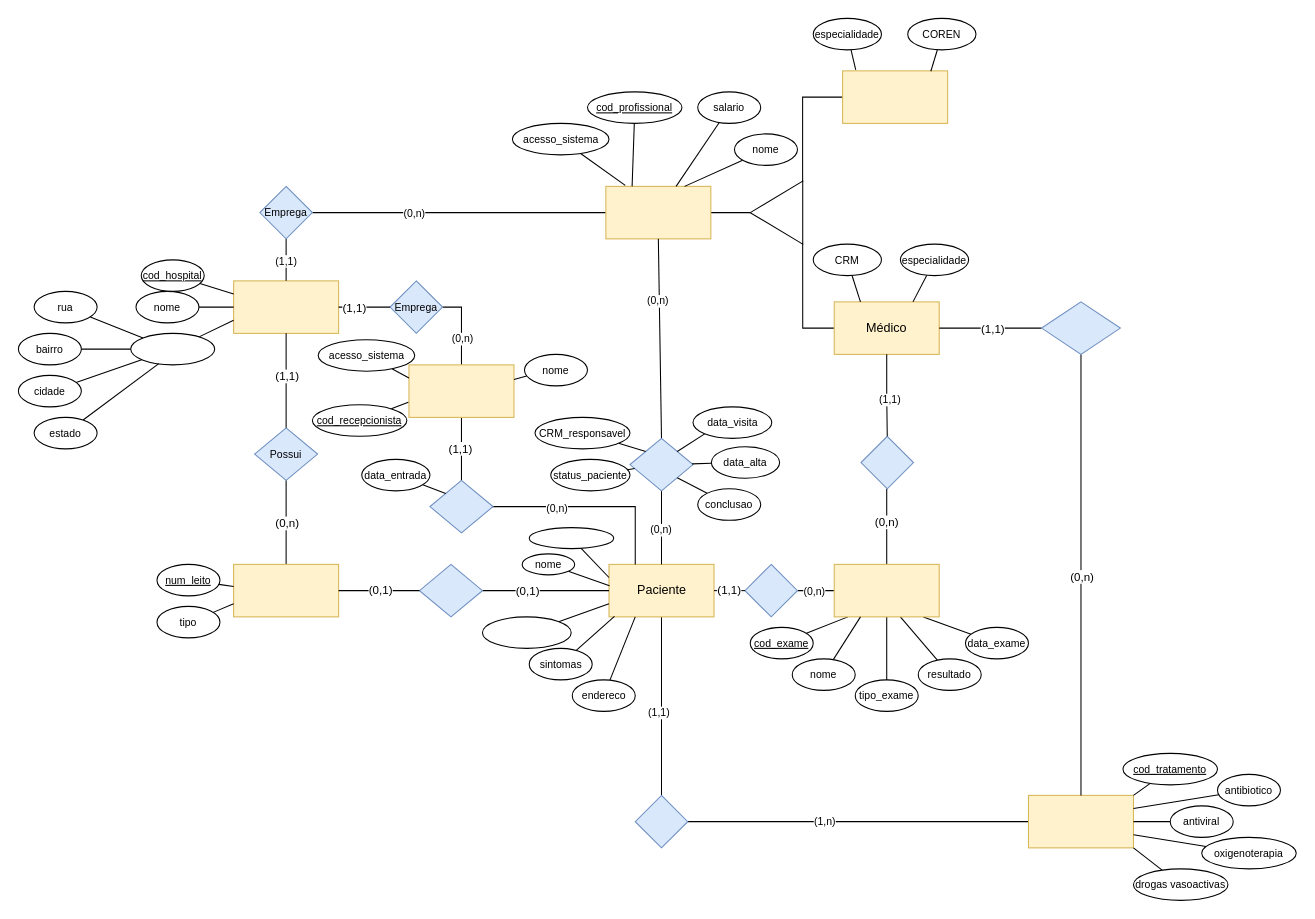
The diagram is 1315 pixels wide and 919 high, and some of its shapes have lost their labels. The centre of each missing label's shape, as x and y in pixels:
"cod_paciente" goes at [571,538].
"endereço" goes at [172,348].
"Enfermeiro" goes at [895,96].
"Exame" goes at [886,590].
"Hospital" goes at [286,306].
"Leito" goes at [286,590].
"Monitora" goes at [661,464].
"num_cartao_sus" goes at [526,632].
"Ocupa" goes at [450,590].
"Preescreve" goes at [1080,327].
"Profissional_da_Saúde" goes at [658,212].
"Realiza" goes at [661,821].
"Recebe" goes at [770,590].
"Recepcionista" goes at [461,390].
"Registra" goes at [461,506].
"Solicita" goes at [887,462].
"Tratamento" goes at [1080,821].
